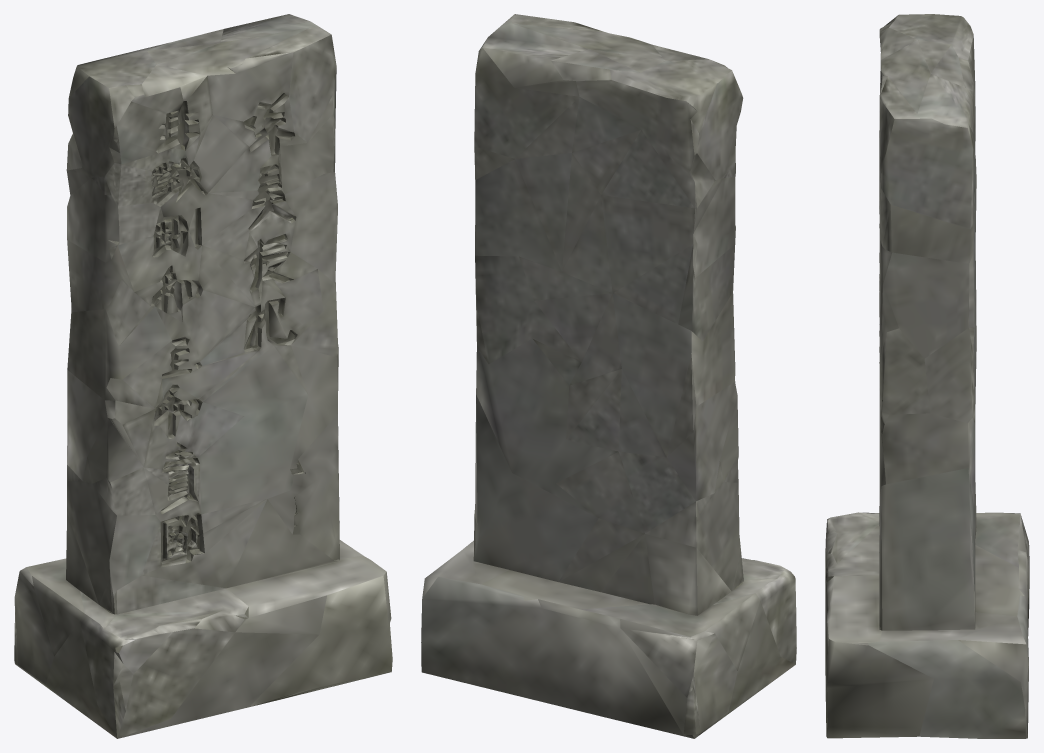
Rendered from cheokhwabi.glb.
3 views of the same model, side by side, from view 1: azimuth 30°, elevation 25°; view 2: azimuth 150°, elevation 25°; view 3: azimuth 270°, elevation 25° (orthographic).
Size of the model in its own units: 0.8937 by 1.9 by 0.5789.
1 material, 1 textured.
